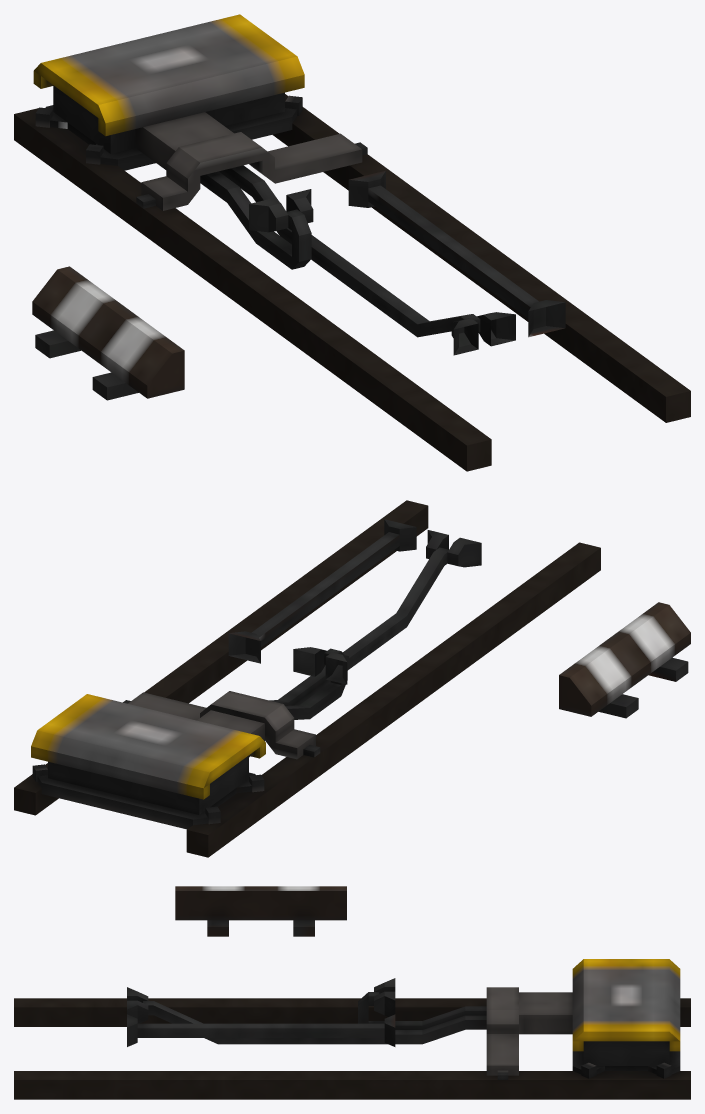
File: mvp_ir_railswitch.obj
3 renders of one model, top to bottom at view 1: azimuth 30°, elevation 25°; view 2: azimuth 150°, elevation 25°; view 3: azimuth 270°, elevation 25°, orthographic. The views are drawn at different scales.
Parts seen in each view (by area): view 1: RAIL_BASE_mvpSwitch, RAIL_LEFT_mvpSwitch, RAIL_RIGHT_mvpSwitch; view 2: RAIL_BASE_mvpSwitch, RAIL_LEFT_mvpSwitch, RAIL_RIGHT_mvpSwitch; view 3: RAIL_BASE_mvpSwitch, RAIL_LEFT_mvpSwitch, RAIL_RIGHT_mvpSwitch.
Part boxes in pixels (x1,y1,x2,y2): RAIL_BASE_mvpSwitch: (14, 14, 690, 471); RAIL_LEFT_mvpSwitch: (92, 372, 138, 400); RAIL_RIGHT_mvpSwitch: (35, 330, 80, 358); RAIL_BASE_mvpSwitch: (14, 500, 690, 857); RAIL_LEFT_mvpSwitch: (648, 657, 688, 681); RAIL_RIGHT_mvpSwitch: (598, 694, 638, 718); RAIL_BASE_mvpSwitch: (14, 886, 690, 1099); RAIL_LEFT_mvpSwitch: (207, 920, 228, 936); RAIL_RIGHT_mvpSwitch: (293, 920, 314, 936).
Bounding box in the file's own units: 2.28 × 0.4063 × 3.94.
Materials: 1 (1 with a texture image).
